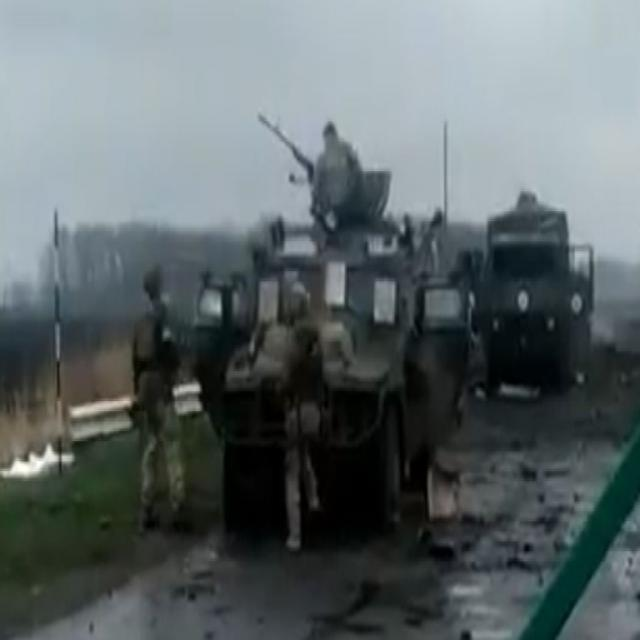CAR: (214, 213, 448, 531)
TRUCK: (480, 198, 579, 391)
